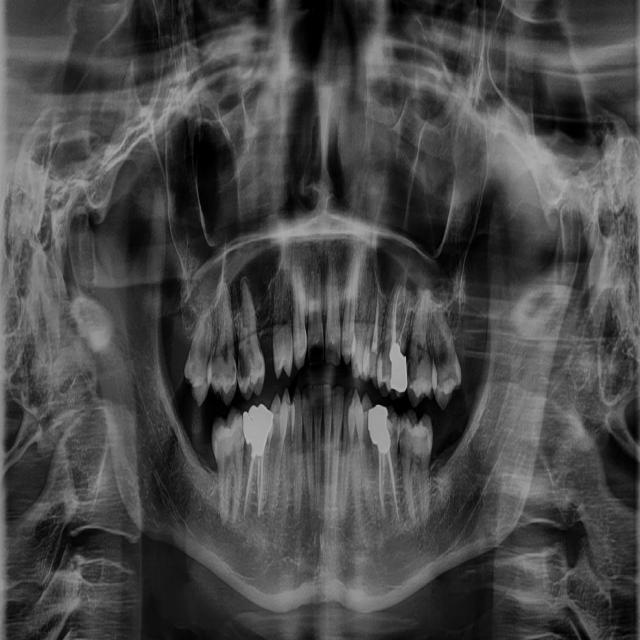Caries: (407, 339, 418, 386), (238, 347, 250, 387), (307, 345, 326, 369), (436, 371, 459, 389), (362, 420, 372, 448), (400, 425, 409, 456), (311, 398, 323, 420), (325, 346, 338, 366), (204, 360, 210, 385), (188, 361, 196, 379), (240, 416, 244, 450), (212, 369, 220, 382), (231, 354, 235, 378), (259, 356, 263, 375)
Filling: (243, 405, 273, 460), (368, 404, 391, 454), (389, 343, 408, 391), (364, 353, 377, 383)
Root Canal Treatment: (386, 448, 399, 522), (243, 456, 256, 517), (392, 283, 404, 342), (398, 292, 410, 345), (371, 291, 379, 353), (379, 450, 386, 511), (258, 451, 264, 518), (257, 457, 260, 499)
